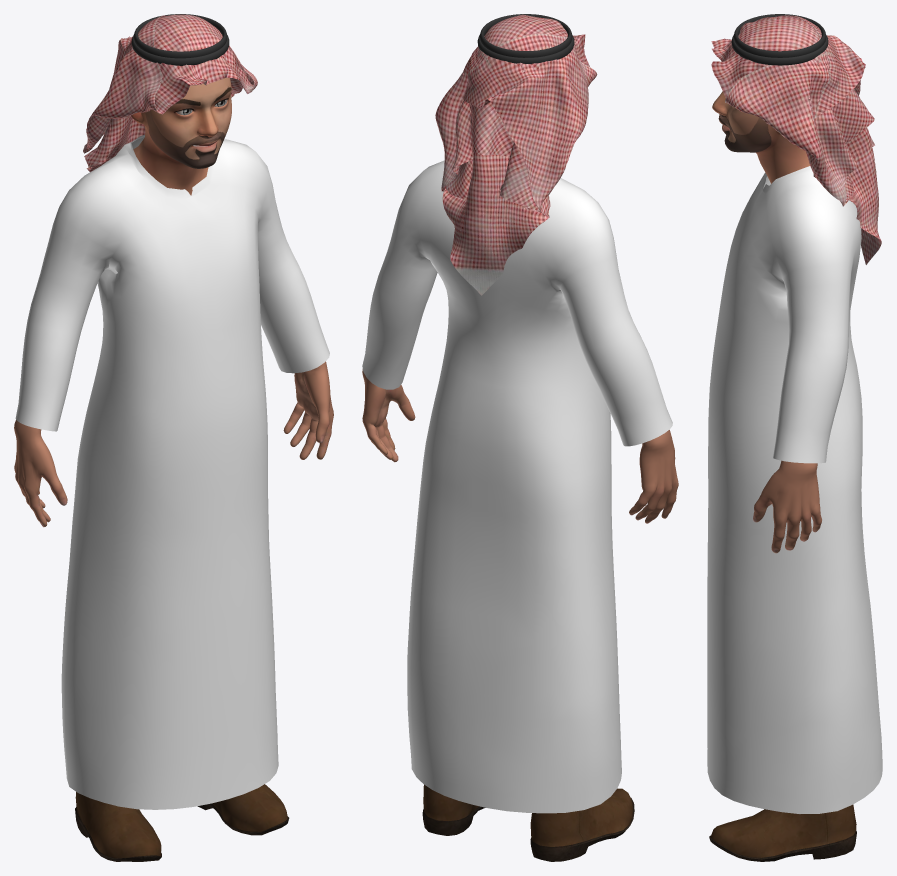
File: hamdan-3d.glb
The picture shows the model from 3 angles, left to right: view 1: azimuth 30°, elevation 25°; view 2: azimuth 150°, elevation 25°; view 3: azimuth 270°, elevation 25°; orthographic projection.
Parts seen in each view (by area): view 1: character; view 2: character; view 3: character.
Part boxes in pixels (bbox=[...]): character: bbox=[14, 14, 333, 861]; character: bbox=[362, 14, 678, 861]; character: bbox=[707, 14, 882, 861].
Size of the model in its own units: 0.3979 by 1 by 0.1986.
Materials: 9 (5 with a texture image).
